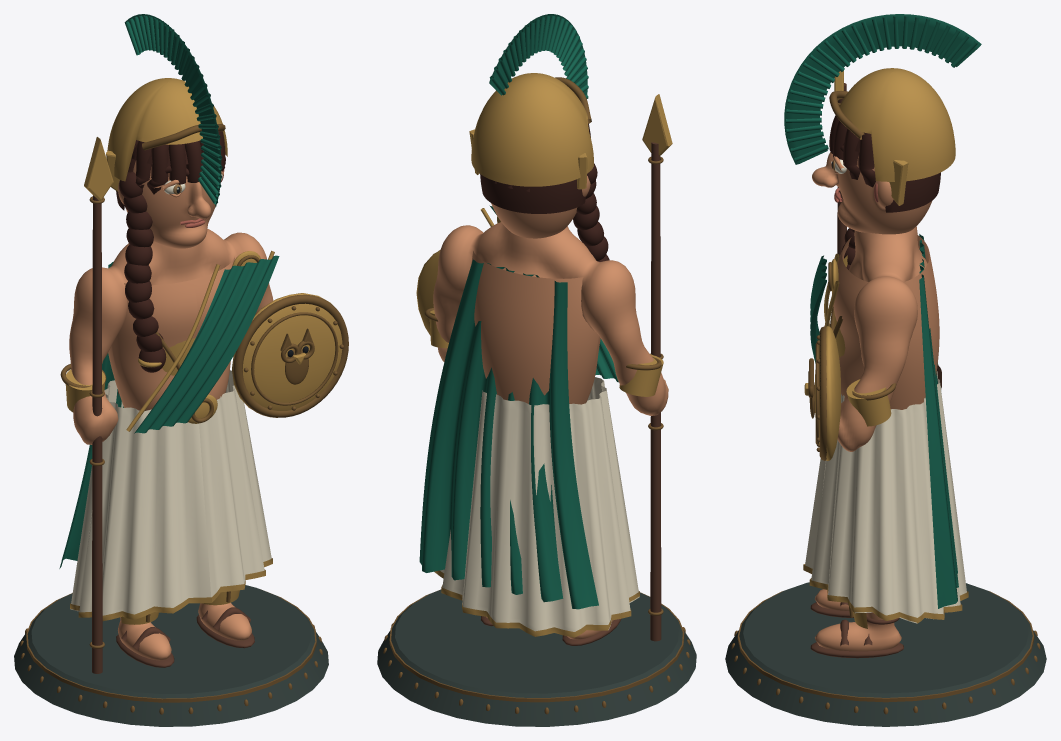
Rendered from athena-f216296285a4.glb.
The picture shows the model from 3 angles, left to right: view 1: azimuth 30°, elevation 25°; view 2: azimuth 150°, elevation 25°; view 3: azimuth 270°, elevation 25°; orthographic projection.
Visible parts, largest first — view 1: Body Linen, Body Basalt, Body Skin, Body Metal, Body Engraved metal, Body Signature cloth, Head Hair, Body Leather, Head Metal, Head Signature cloth, Head Skin, Cape Signature cloth (+1 smaller); view 2: Body Basalt, Body Skin, Body Linen, Cape Signature cloth, Head Metal, Body Leather, Body Metal, Head Hair, Head Signature cloth, Body Engraved metal, Head Skin, Body Signature cloth; view 3: Body Basalt, Body Linen, Body Skin, Head Metal, Head Signature cloth, Body Metal, Cape Signature cloth, Body Engraved metal, Head Skin, Head Hair, Body Leather, Body Signature cloth.
Boxes of the visible parts, x1,y1,x2,y2 form: Body Linen: (70,370,271,615); Body Basalt: (14,585,328,726); Body Skin: (69,228,273,660); Body Metal: (65,137,342,624); Body Engraved metal: (20,196,348,714); Body Signature cloth: (134,255,279,433); Head Hair: (116,131,225,372); Body Leather: (92,195,254,673); Head Metal: (106,78,227,367); Head Signature cloth: (124,14,222,207); Head Skin: (118,160,224,248); Cape Signature cloth: (59,261,123,568); Body Basalt: (377,589,696,726); Body Skin: (433,222,668,639); Body Linen: (440,377,639,631); Cape Signature cloth: (419,259,598,609); Head Metal: (469,73,593,189); Body Leather: (481,142,661,645); Body Metal: (416,94,672,637); Head Hair: (480,123,609,261); Head Signature cloth: (489,14,588,98); Body Engraved metal: (383,156,690,714); Head Skin: (491,176,590,238); Body Signature cloth: (489,205,618,382); Body Basalt: (725,582,1046,726); Body Linen: (805,371,966,623); Body Skin: (815,226,939,651); Head Metal: (839,68,955,205); Head Signature cloth: (784,14,981,164); Body Metal: (803,71,968,628); Cape Signature cloth: (919,234,958,608); Body Engraved metal: (731,103,1040,714); Head Skin: (812,152,932,234); Head Hair: (829,115,940,269); Body Leather: (810,83,941,658); Body Signature cloth: (810,255,826,363).
Size of the model in its own units: 1.87 by 3.98 by 1.8.
